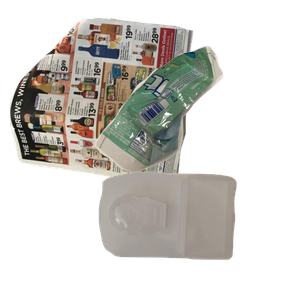glass: (96, 190, 230, 300)
paper: (10, 15, 196, 195)
plastic: (96, 169, 300, 300)
trash: (92, 44, 300, 211)
